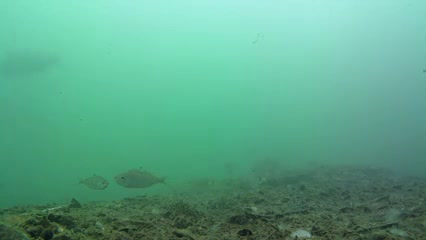smallfish: (110, 161, 172, 191)
